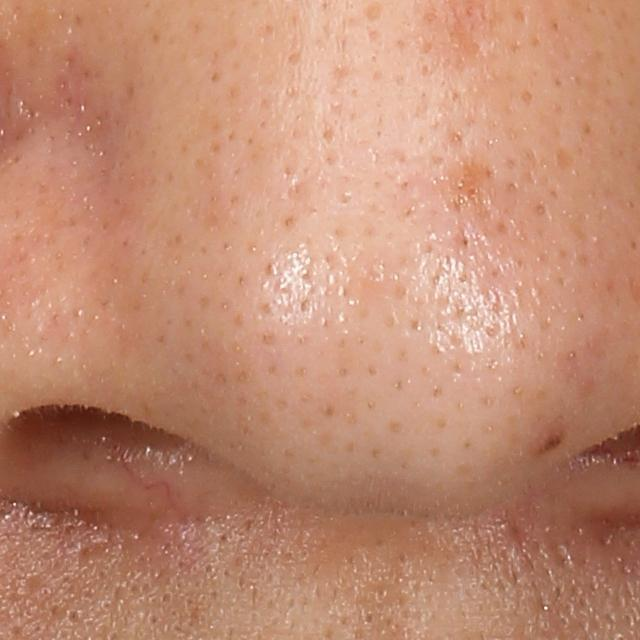nevus: (534, 429, 554, 459)
